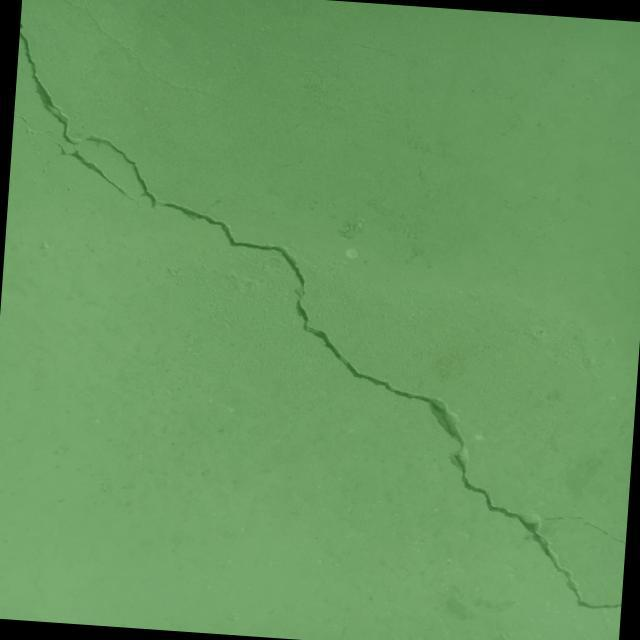crack: (0, 29, 640, 611), (537, 514, 627, 545), (20, 23, 23, 28)
